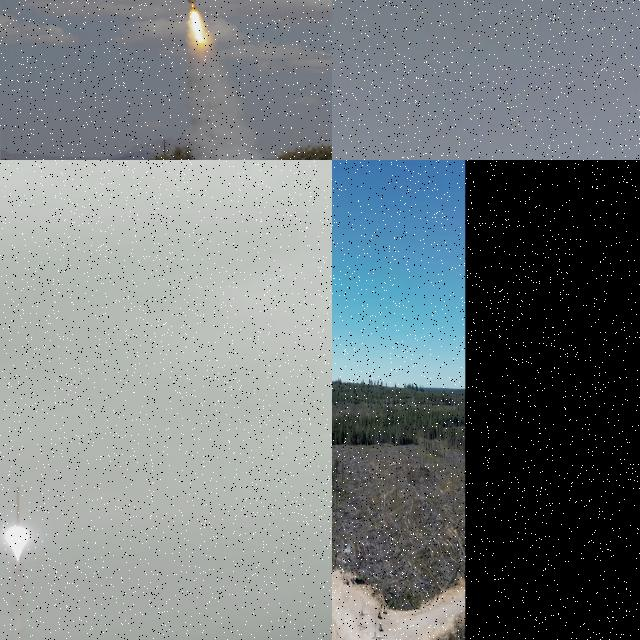Rocket: (15, 487, 21, 526), (375, 620, 375, 633)
